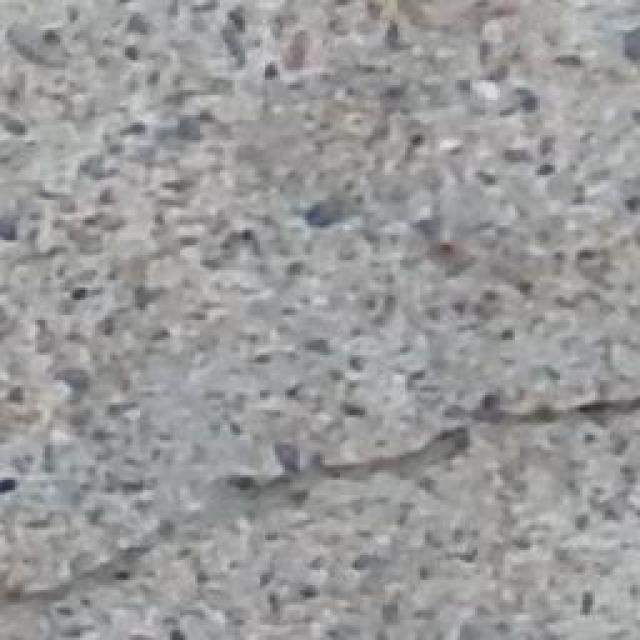concrete-crack: (0, 387, 638, 615)
